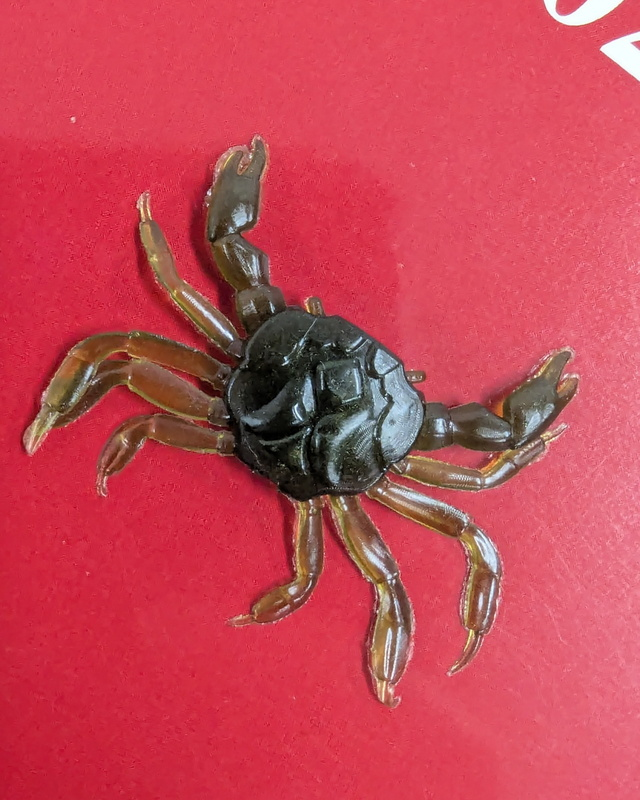crab2: (21, 136, 583, 712)
